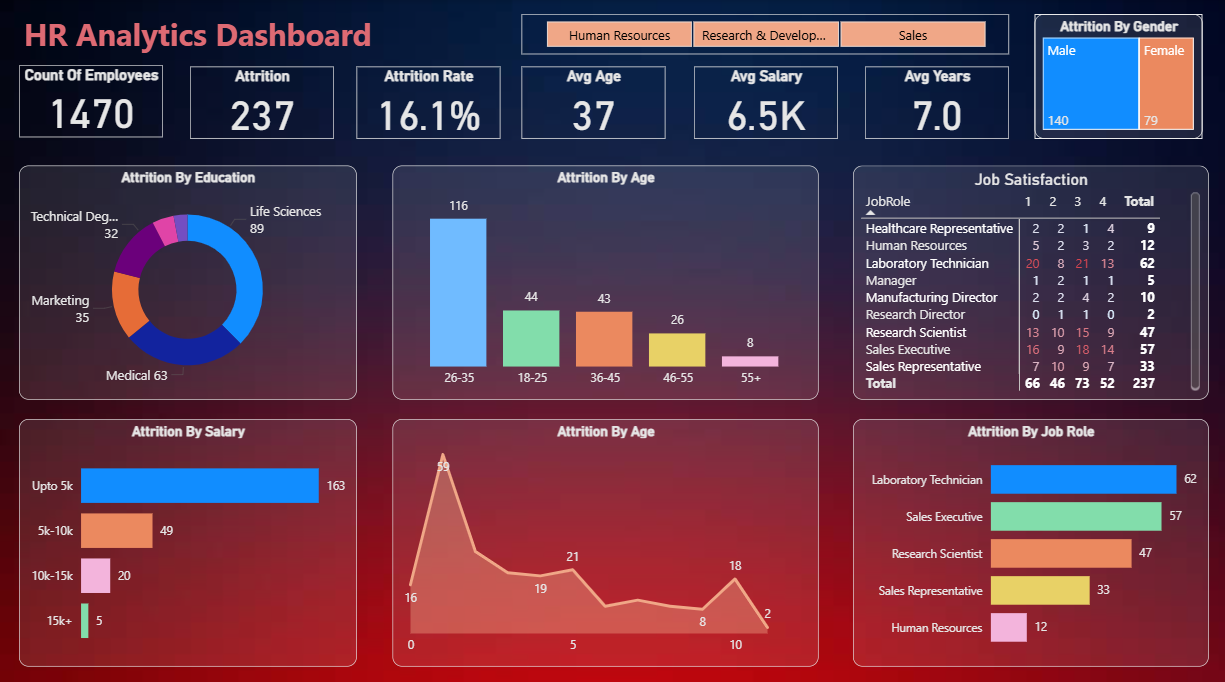

The page's visual inventory and layout, read from the dashboard file:
{"tool":"powerbi","page":{"name":"Page 1","canvas":[1280,720],"ordinal":0},"visuals":[{"type":"card","title":"Count Of Employees","fields":{"Values":["CountNonNull(HR_Analytics.EmpID)"]},"box":[21.2,68.8,150,75],"z":0},{"type":"card","title":"Attrition","fields":{"Values":["Sum(HR_Analytics.Attrition Count)"]},"box":[199.6,70.4,150,75],"z":1000},{"type":"card","title":"Attrition Rate","fields":{"Values":["HR_Analytics.AttritionRate"]},"box":[372.9,70.4,150,75],"z":2000},{"type":"card","title":"Avg Age","fields":{"Values":["Avg(HR_Analytics.Age)"]},"box":[546.2,70.4,150,75],"z":3000},{"type":"card","title":"Avg Salary","fields":{"Values":["Avg(HR_Analytics.MonthlyIncome)"]},"box":[724.6,70.4,150,75],"z":4000},{"type":"card","title":"Avg Years","fields":{"Values":["Avg(HR_Analytics.YearsAtCompany)"]},"box":[902.9,70.4,150,75],"z":5000},{"type":"donutChart","title":"Attrition By Education","fields":{"Category":["HR_Analytics.EducationField"],"Y":["Sum(HR_Analytics.Attrition Count)"]},"box":[21.9,173.5,351.7,243.8],"z":6000},{"type":"clusteredColumnChart","title":"Attrition By Age","fields":{"Category":["HR_Analytics.AgeGroup"],"Y":["Sum(HR_Analytics.Attrition Count)"]},"box":[411.1,173.5,443.9,243.8],"z":7000},{"type":"pivotTable","title":"Job Satisfaction ","fields":{"Rows":["HR_Analytics.JobRole"],"Columns":["HR_Analytics.JobSatisfaction"],"Values":["Sum(HR_Analytics.Attrition Count)"]},"box":[890.9,173.5,370.4,243.8],"z":8000},{"type":"clusteredBarChart","title":"Attrition By Salary","fields":{"Category":["HR_Analytics.SalarySlab"],"Y":["Sum(HR_Analytics.Attrition Count)"]},"box":[21.9,437.6,351.7,257.9],"z":9000},{"type":"clusteredBarChart","title":"Attrition By Job Role","fields":{"Category":["HR_Analytics.JobRole"],"Y":["Sum(HR_Analytics.Attrition Count)"]},"box":[890.9,437.6,370.4,257.9],"z":10000},{"type":"areaChart","title":"Attrition By Age","fields":{"Category":["HR_Analytics.YearsAtCompany"],"Y":["Sum(HR_Analytics.Attrition Count)"]},"box":[411.1,437.6,443.9,257.9],"z":11000},{"type":"treemap","title":"Attrition By Gender","fields":{"Group":["HR_Analytics.Gender"],"Values":["Sum(HR_Analytics.Attrition Count)"]},"box":[1080,15.6,175.1,129.7],"z":12000},{"type":"slicer","fields":{"Values":["HR_Analytics.Department"]},"box":[545.5,15.6,508,42.2],"z":13000},{"type":"textbox","box":[21.9,9.4,501.7,56.3],"z":14000}]}

Visuals, with their boxes in screenshot pixels (x1, y1, x2, y2), scaled from the page's 1280x720 canvas onto the 1225x682 screenshot:
"Count Of Employees" card: <bbox>20, 65, 164, 136</bbox>
"Attrition" card: <bbox>191, 67, 335, 138</bbox>
"Attrition Rate" card: <bbox>357, 67, 500, 138</bbox>
"Avg Age" card: <bbox>523, 67, 666, 138</bbox>
"Avg Salary" card: <bbox>693, 67, 837, 138</bbox>
"Avg Years" card: <bbox>864, 67, 1008, 138</bbox>
"Attrition By Education" donutChart: <bbox>21, 164, 358, 395</bbox>
"Attrition By Age" clusteredColumnChart: <bbox>393, 164, 818, 395</bbox>
"Job Satisfaction " pivotTable: <bbox>853, 164, 1207, 395</bbox>
"Attrition By Salary" clusteredBarChart: <bbox>21, 415, 358, 659</bbox>
"Attrition By Job Role" clusteredBarChart: <bbox>853, 415, 1207, 659</bbox>
"Attrition By Age" areaChart: <bbox>393, 415, 818, 659</bbox>
"Attrition By Gender" treemap: <bbox>1034, 15, 1201, 138</bbox>
slicer - HR_Analytics.Department: <bbox>522, 15, 1008, 55</bbox>
textbox: <bbox>21, 9, 501, 62</bbox>
